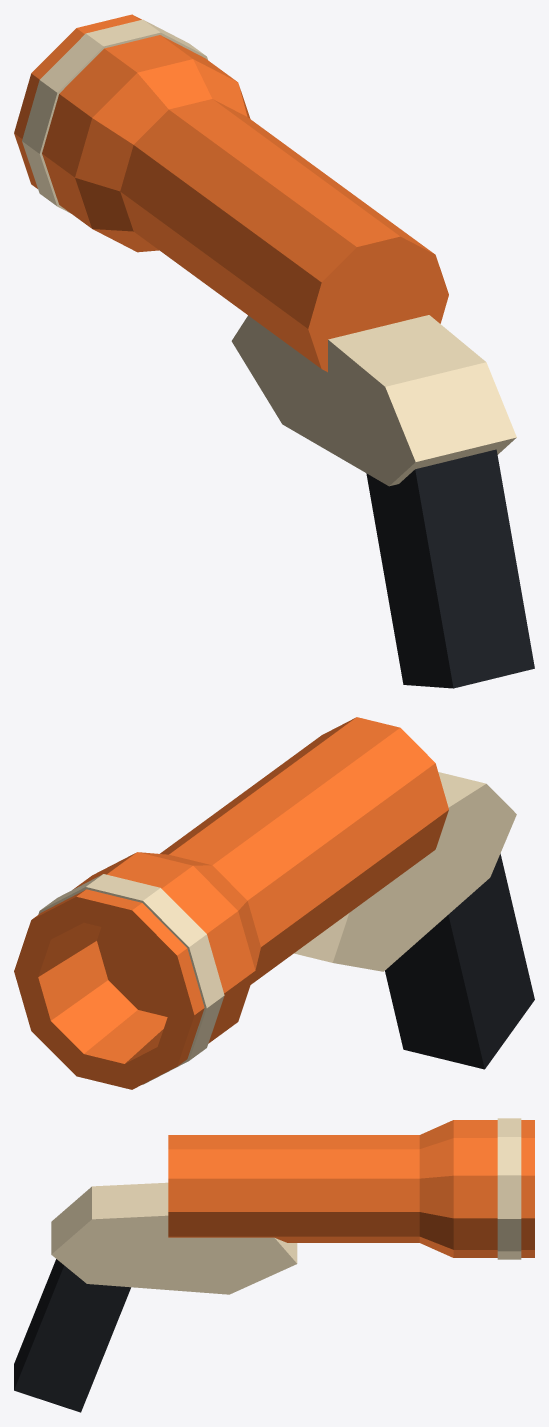
Rendered from flare_launcher.glb.
3 renders of one model, top to bottom at view 1: azimuth 30°, elevation 25°; view 2: azimuth 150°, elevation 25°; view 3: azimuth 270°, elevation 25°, orthographic. The views are drawn at different scales.
Visible parts, largest first — view 1: Merged; view 2: Merged; view 3: Merged.
Part boxes in pixels (x1=…): Merged: x1=14, y1=14, x2=534, y2=688; Merged: x1=14, y1=717, x2=534, y2=1089; Merged: x1=14, y1=1118, x2=534, y2=1412.
Bounding box in the file's own units: 0.1386 × 0.2917 × 0.5065.
